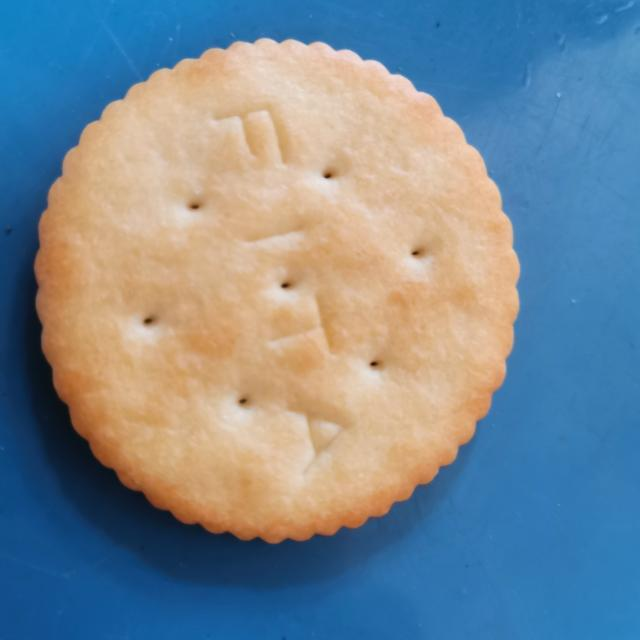Intact: (22, 29, 538, 558)
